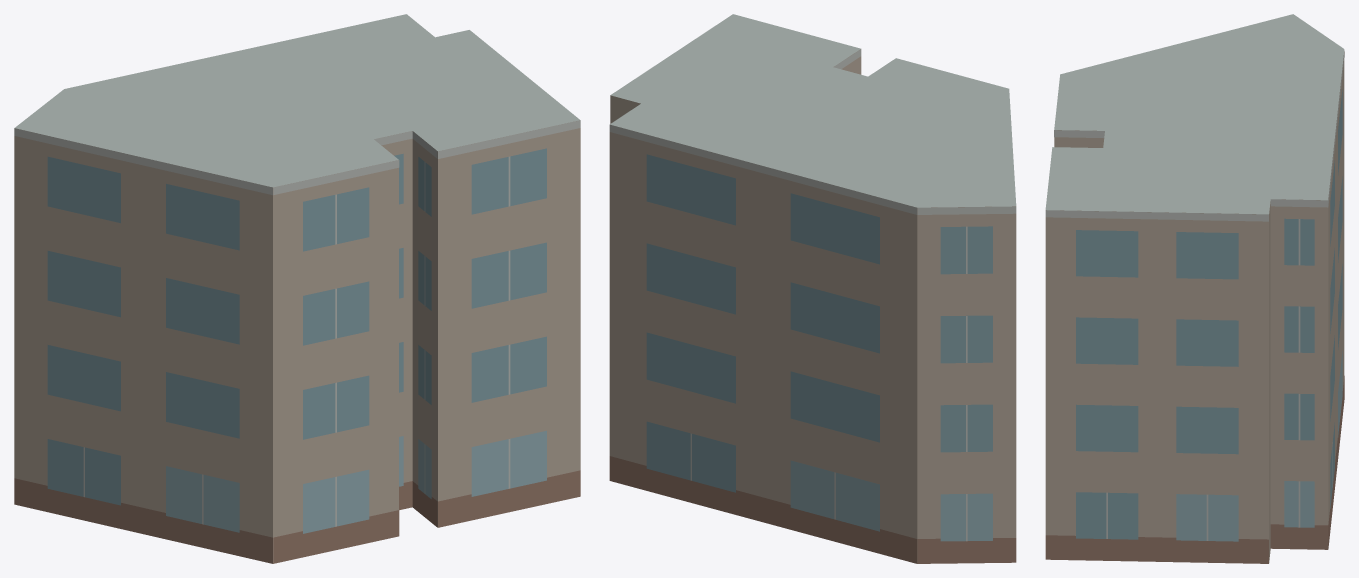
Rendered from survey-upis-32630089.glb.
The picture shows the model from 3 angles, left to right: view 1: azimuth 30°, elevation 25°; view 2: azimuth 150°, elevation 25°; view 3: azimuth 270°, elevation 25°; orthographic projection. The views are drawn at different scales.
Visible parts, largest first — view 1: survey-upis-32630089.tmp; view 2: survey-upis-32630089.tmp; view 3: survey-upis-32630089.tmp.
Boxes of the visible parts, x1,y1,x2,y2 form: survey-upis-32630089.tmp: (14, 14, 580, 563); survey-upis-32630089.tmp: (609, 14, 1016, 563); survey-upis-32630089.tmp: (1045, 14, 1344, 563).
Size of the model in its own units: 14.48 by 11.77 by 9.14.
